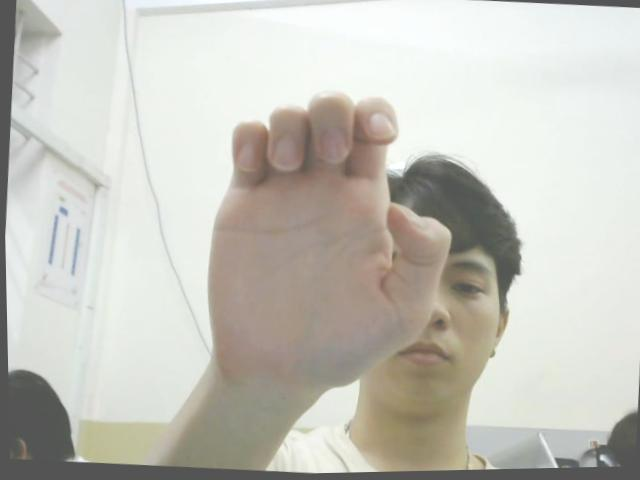E: (192, 78, 463, 405)
